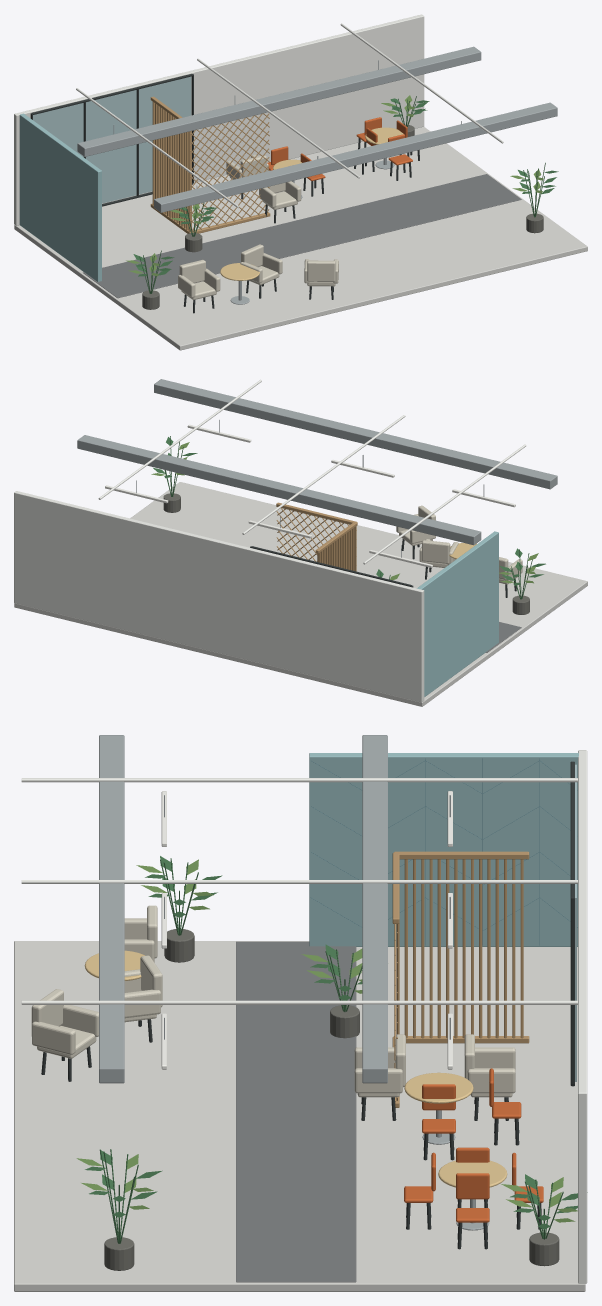
File: con-methodology-interior-ded31586335a.glb
The picture shows the model from 3 angles, top to bottom: view 1: azimuth 30°, elevation 25°; view 2: azimuth 150°, elevation 25°; view 3: azimuth 270°, elevation 25°; orthographic projection. The views are drawn at different scales.
Visible parts, largest first — view 1: con-methodology; view 2: con-methodology; view 3: con-methodology.
Boxes of the visible parts, <box> form: con-methodology: <box>14,14,587,350</box>; con-methodology: <box>14,379,587,706</box>; con-methodology: <box>14,735,587,1291</box>.
Bounding box in the file's own units: 10.84 × 3.25 × 7.63.
